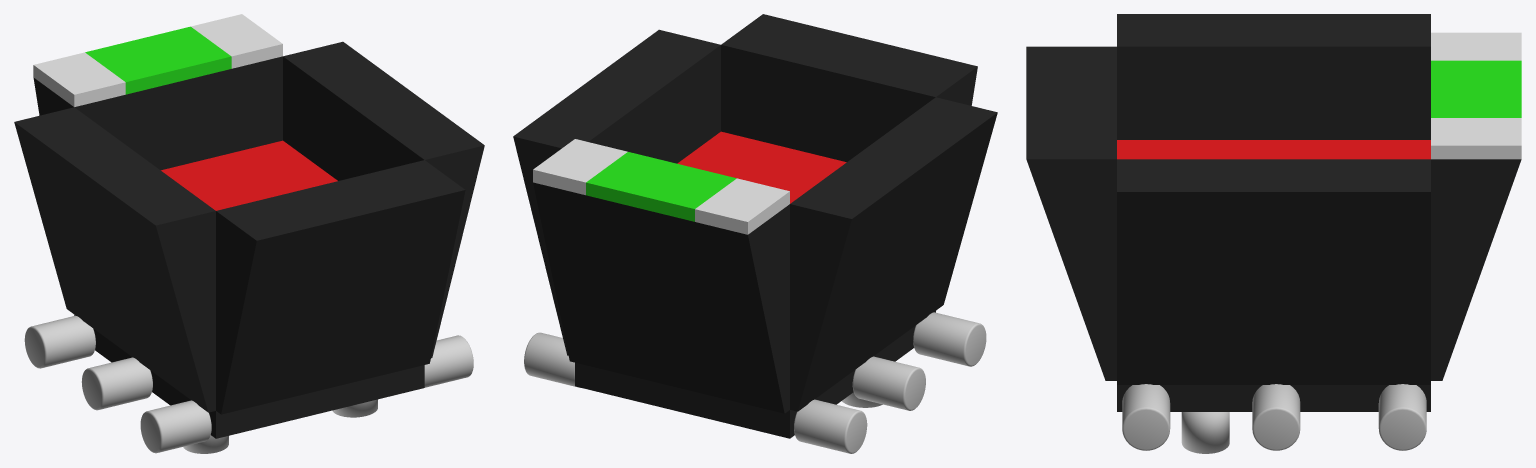
The model's file is roblox_cart.glb.
The picture shows the model from 3 angles, left to right: view 1: azimuth 30°, elevation 25°; view 2: azimuth 150°, elevation 25°; view 3: azimuth 270°, elevation 25°; orthographic projection. The views are drawn at different scales.
Parts seen in each view (by area): view 1: base1, tires, base2, tires2; view 2: base1, tires, base2; view 3: base1, tires, base2, tires2.
Part boxes in pixels (<box>): base1: <box>14,14,484,438</box>; tires: <box>24,315,473,453</box>; base2: <box>161,140,337,210</box>; tires2: <box>183,399,377,453</box>; base1: <box>513,14,997,438</box>; tires: <box>524,312,986,453</box>; base2: <box>677,131,846,203</box>; base1: <box>1026,14,1521,411</box>; tires: <box>1122,384,1426,450</box>; base2: <box>1117,140,1430,159</box>; tires2: <box>1181,412,1229,453</box>.
Bounding box in the file's own units: 3.45 × 2.83 × 4.05.
